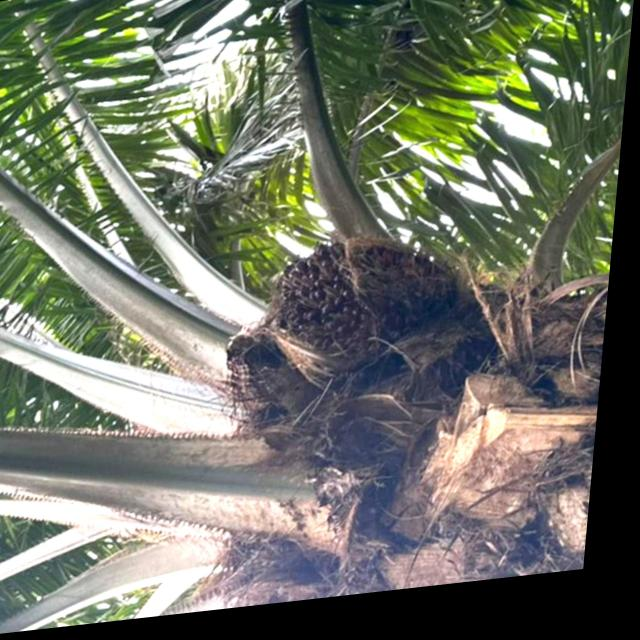ripe: (257, 219, 477, 398)
